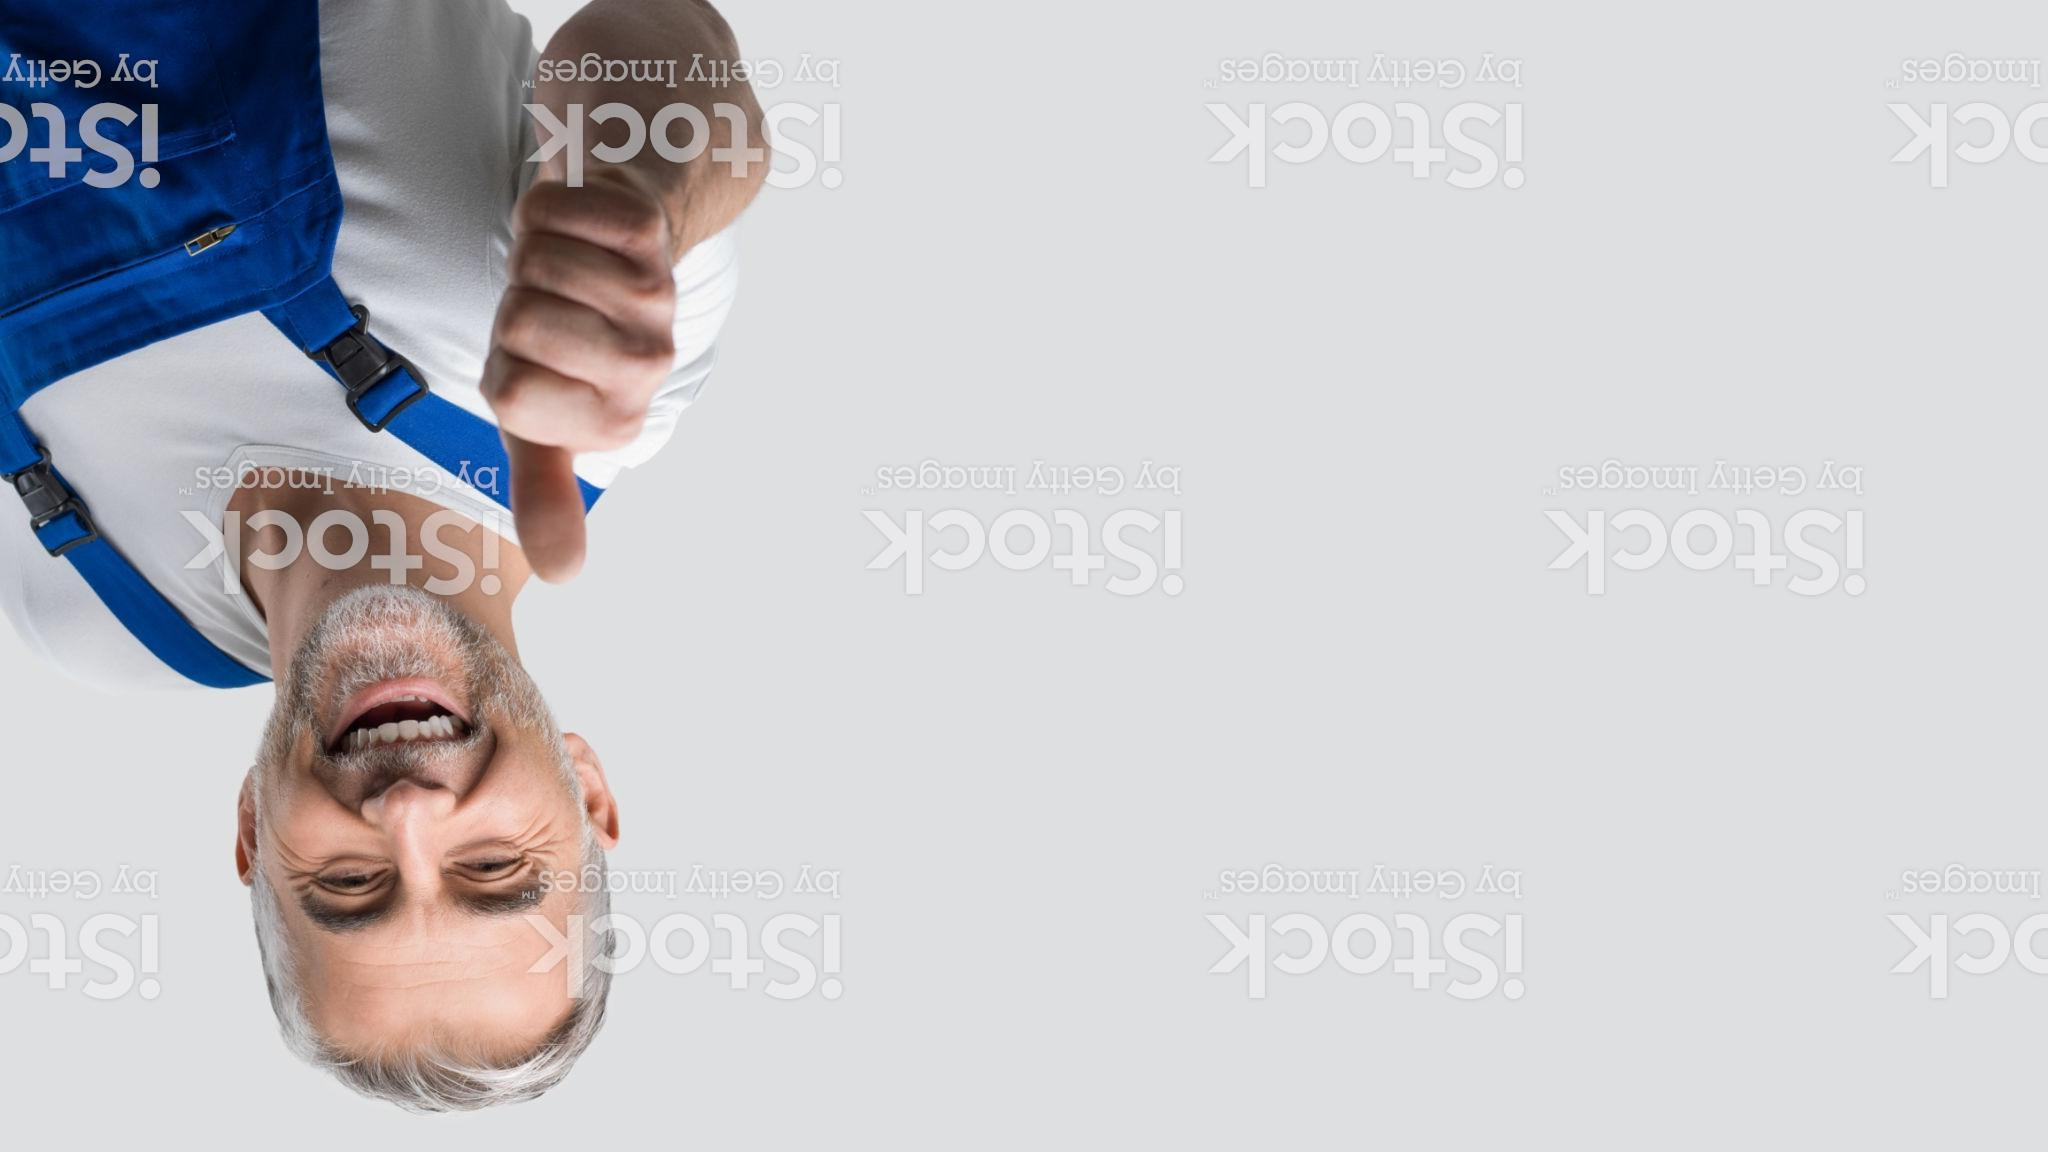thumbsdown: (475, 169, 679, 585)
